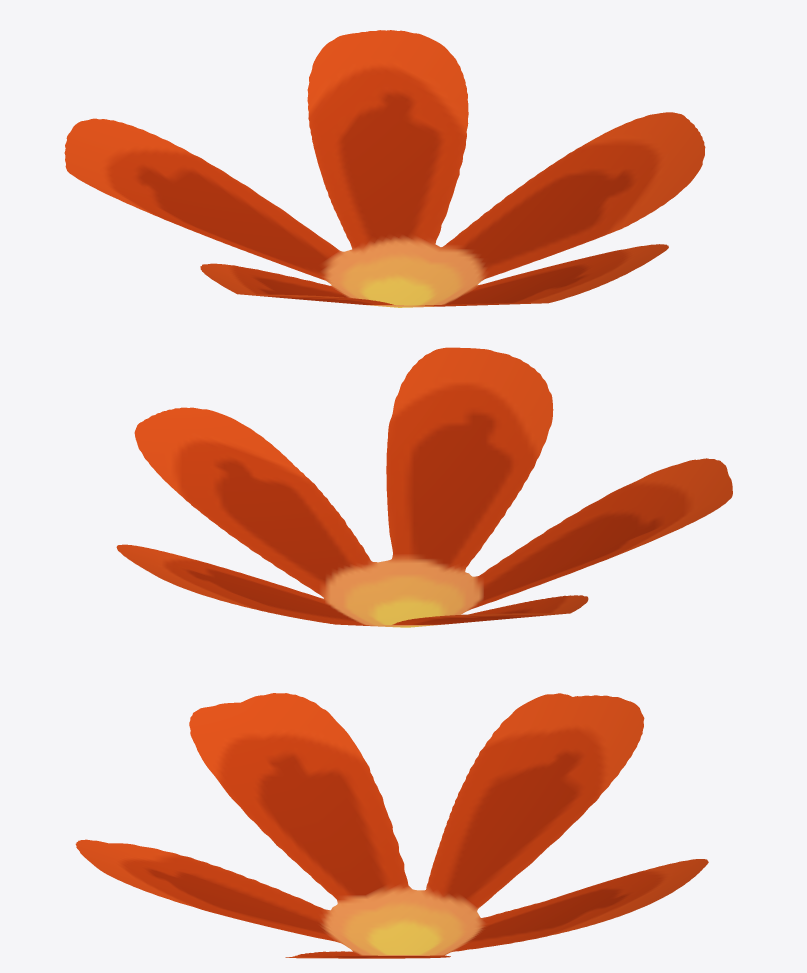
The model's file is Flower_01.FBX.
The picture shows the model from 3 angles, top to bottom: view 1: azimuth 30°, elevation 25°; view 2: azimuth 150°, elevation 25°; view 3: azimuth 270°, elevation 25°; orthographic projection.
Parts seen in each view (by area): view 1: Flower_01; view 2: Flower_01; view 3: Flower_01.
Boxes of the visible parts, box(x1,y1,x2,y2) form: Flower_01: box(64, 30, 705, 307); Flower_01: box(116, 347, 732, 627); Flower_01: box(75, 693, 708, 958).
Bounding box in the file's own units: 17.86 × 4.62 × 20.58.
